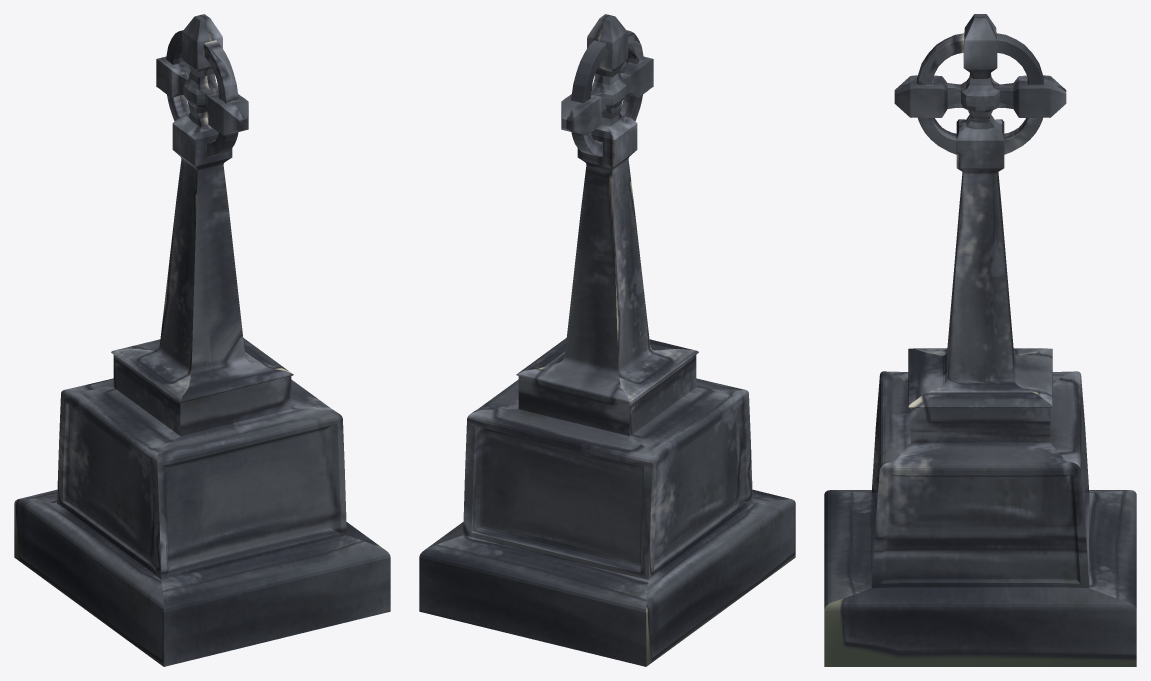
Rendered from gravestonesCross.fbx.
3 views of the same model, side by side, from view 1: azimuth 30°, elevation 25°; view 2: azimuth 150°, elevation 25°; view 3: azimuth 270°, elevation 25° (orthographic). The views are drawn at different scales.
Parts seen in each view (by area): view 1: Gravestone1; view 2: Gravestone1; view 3: Gravestone1.
Boxes of the visible parts, bbox=[...] form: Gravestone1: bbox=[14, 14, 390, 666]; Gravestone1: bbox=[419, 14, 795, 666]; Gravestone1: bbox=[824, 14, 1136, 666].
Size of the model in its own units: 200 by 478 by 228.
Materials: 1 (1 with a texture image).
